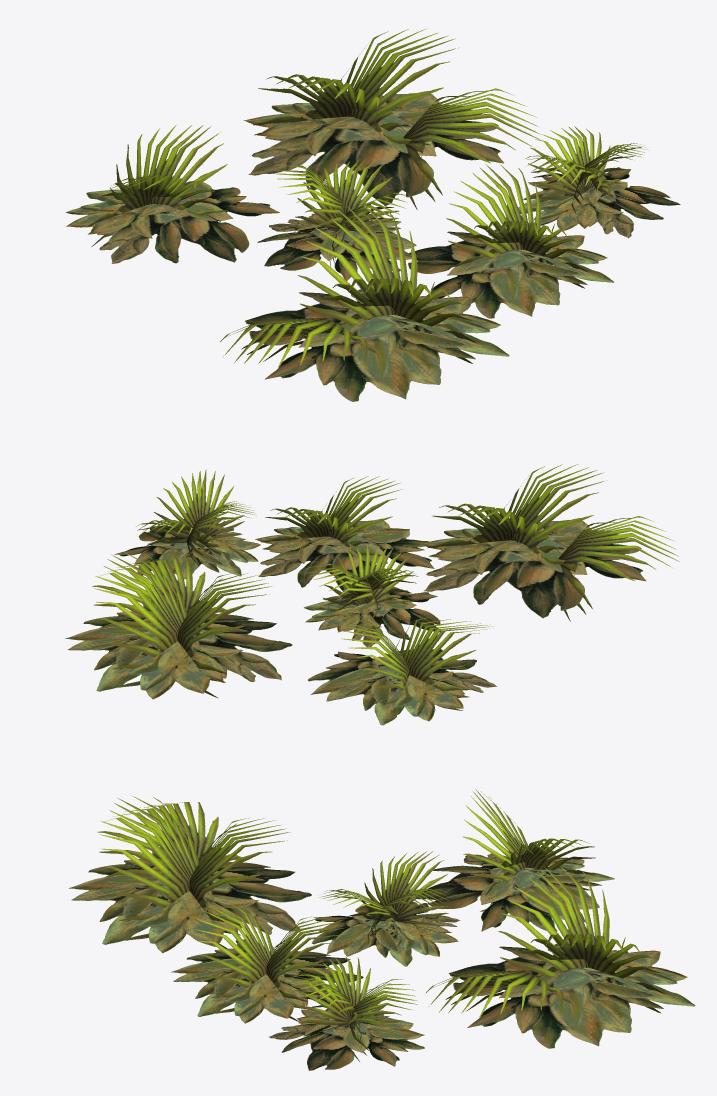
File: Dream_Plant03.FBX
3 renders of one model, top to bottom at view 1: azimuth 30°, elevation 25°; view 2: azimuth 150°, elevation 25°; view 3: azimuth 270°, elevation 25°, orthographic. The views are drawn at different scales.
Parts seen in each view (by area): view 1: Dream_Plant03; view 2: Dream_Plant03; view 3: Dream_Plant03.
Boxes of the visible parts, x1,y1,x2,y2 form: Dream_Plant03: (66, 28, 680, 401); Dream_Plant03: (65, 464, 679, 725); Dream_Plant03: (69, 789, 695, 1070).
Bounding box in the file's own units: 1.91 × 0.4623 × 2.17.
